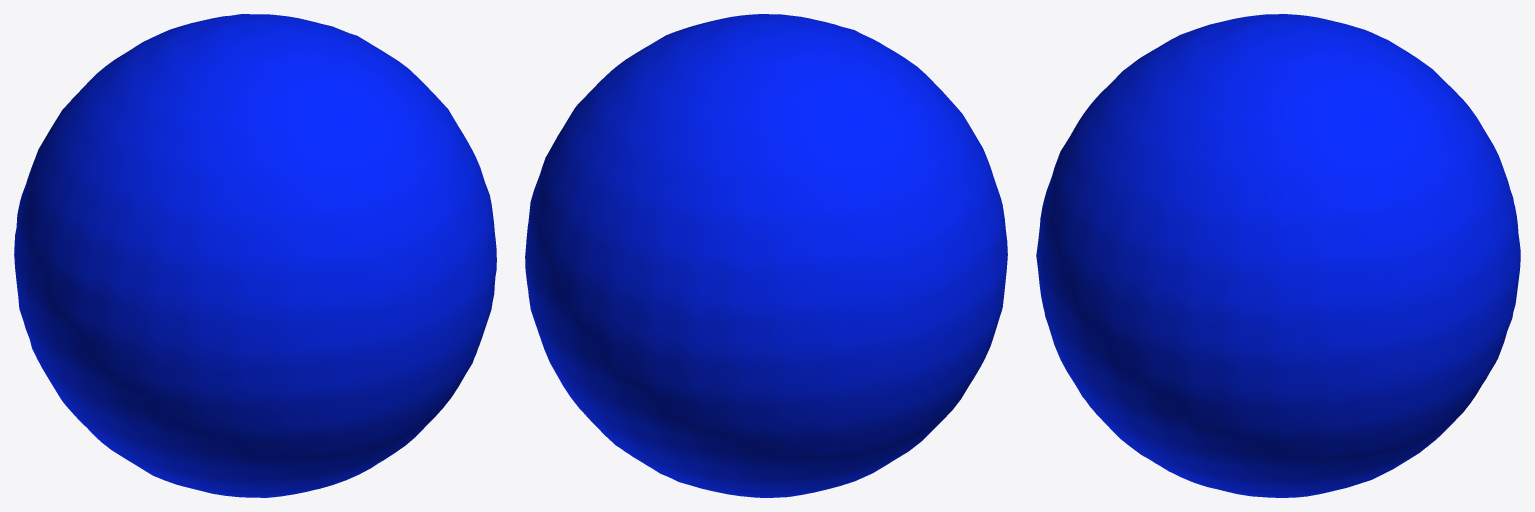
File: BallRushPlayeer.glb
3 renders of one model, left to right at view 1: azimuth 30°, elevation 25°; view 2: azimuth 150°, elevation 25°; view 3: azimuth 270°, elevation 25°, orthographic.
Visible parts, largest first — view 1: BallRushPlayer; view 2: BallRushPlayer; view 3: BallRushPlayer.
Part boxes in pixels (bbox=[...]): BallRushPlayer: bbox=[14, 14, 496, 497]; BallRushPlayer: bbox=[525, 14, 1007, 497]; BallRushPlayer: bbox=[1036, 14, 1520, 497].
Bounding box in the file's own units: 2 × 2 × 2.
